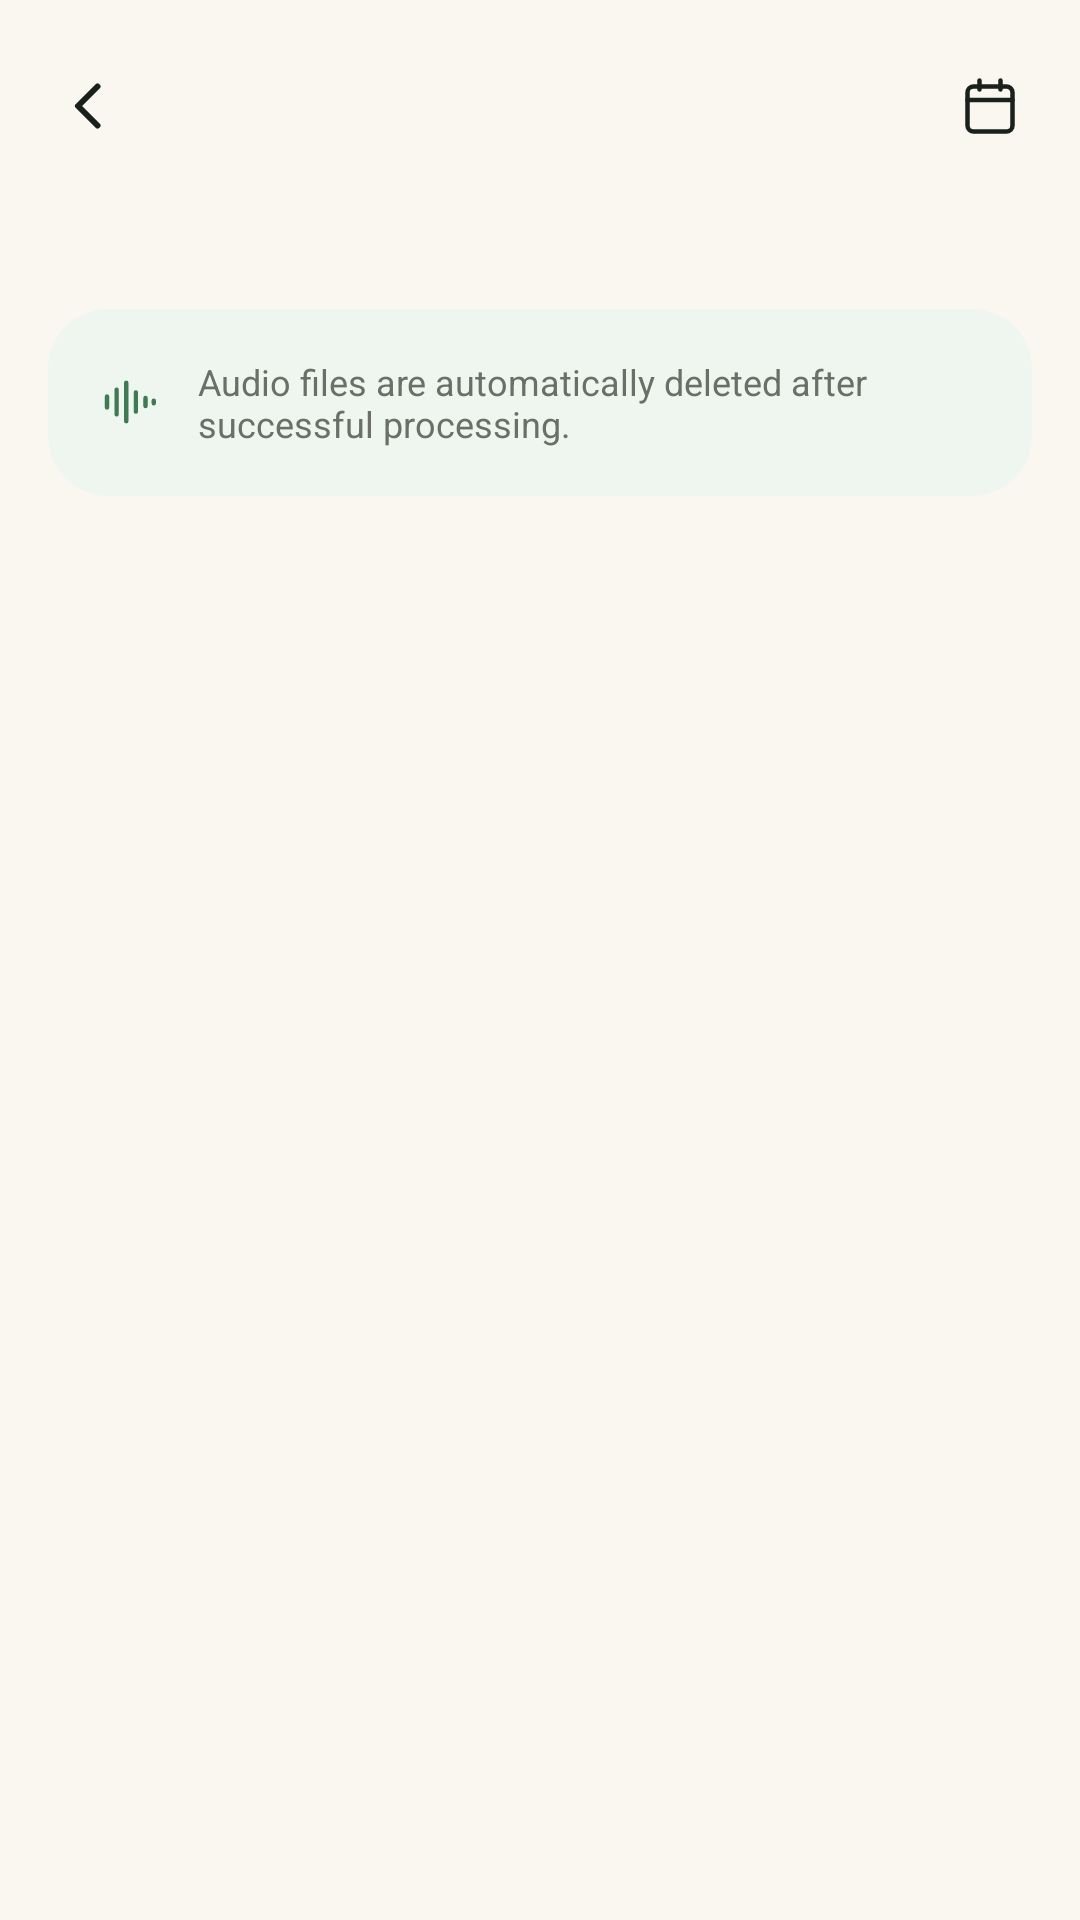

Icons on this 1080*1920 Android screen, each with the point to tap as [x,y]:
Back: [88,106]
Jump to date: [990,106]
waveform: [130,402]
